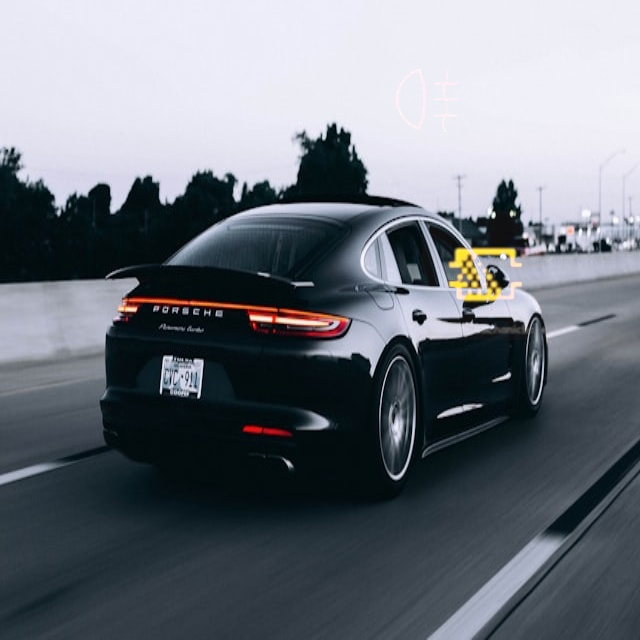symbol: (361, 33, 495, 167), (422, 211, 551, 340)
